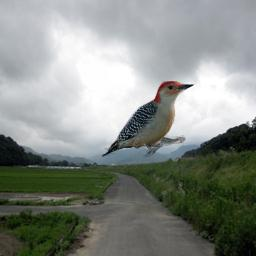Woodpecker: (102, 81, 196, 157)
